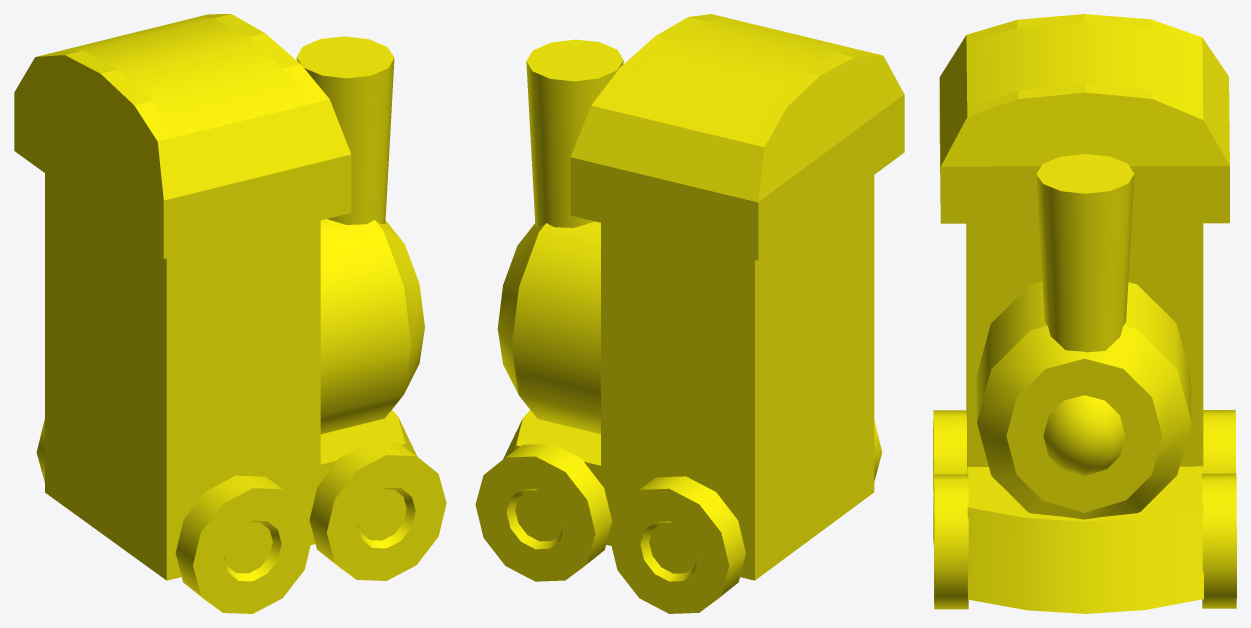
File: train.glb
The picture shows the model from 3 angles, left to right: view 1: azimuth 30°, elevation 25°; view 2: azimuth 150°, elevation 25°; view 3: azimuth 270°, elevation 25°; orthographic projection. The views are drawn at different scales.
Parts seen in each view (by area): view 1: train; view 2: train; view 3: train.
Boxes of the visible parts, x1=… form: train: x1=14, y1=14, x2=446, y2=613; train: x1=475, y1=14, x2=904, y2=613; train: x1=933, y1=14, x2=1236, y2=613.
Bounding box in the file's own units: 1.03 × 1.54 × 0.8635.
